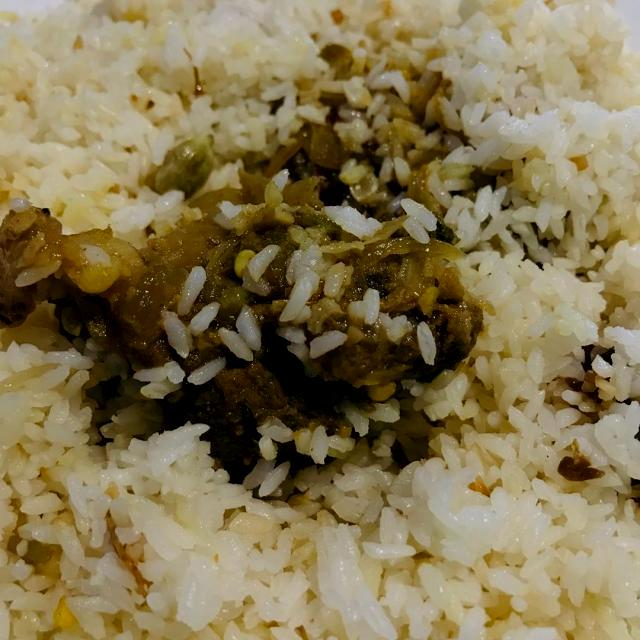biryani: (14, 9, 578, 539)
